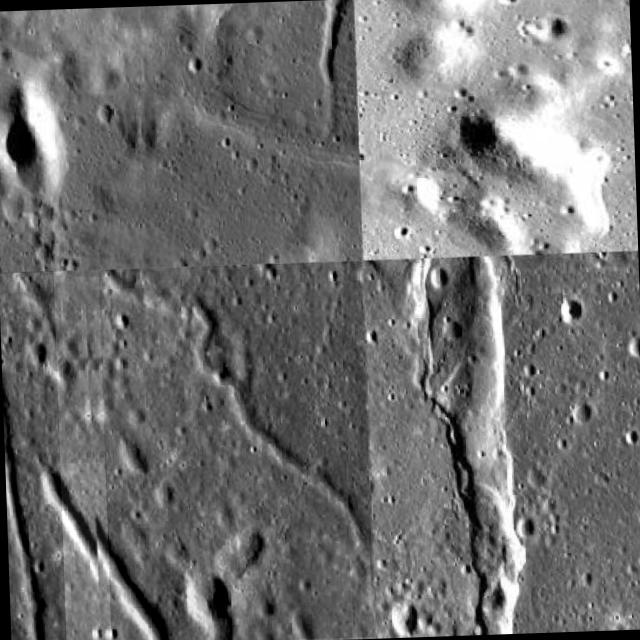rille: (98, 260, 374, 640), (39, 456, 259, 640), (541, 250, 640, 630), (0, 270, 66, 640), (550, 0, 633, 170)
